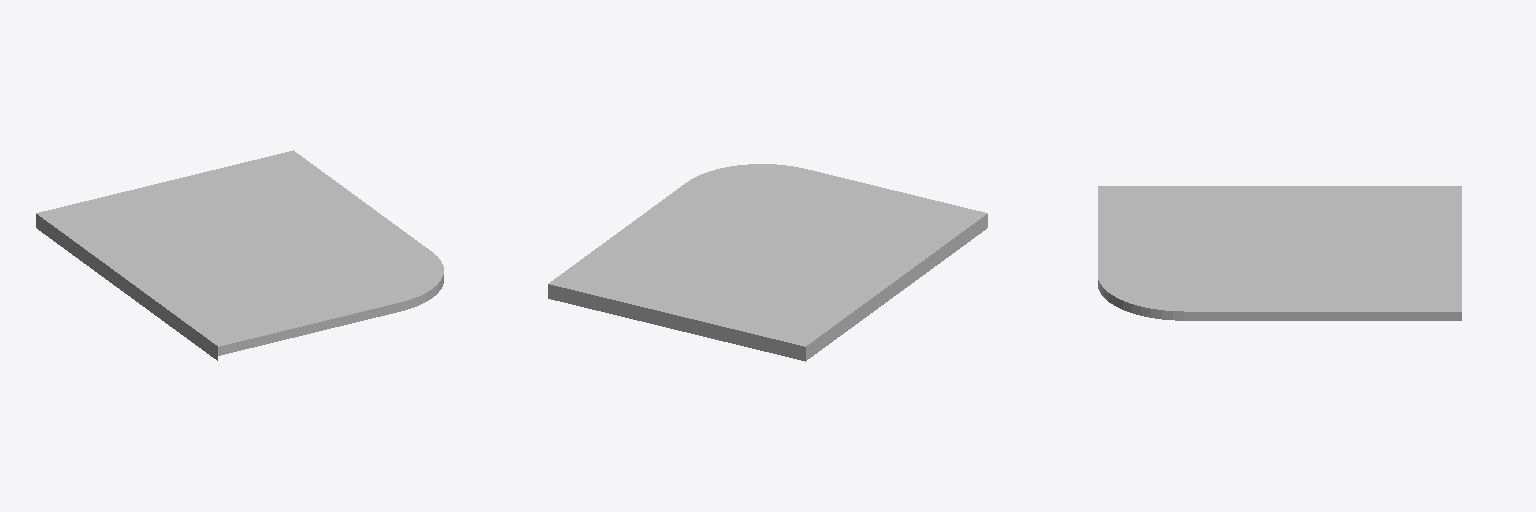
File: original-180.obj
3 views of the same model, side by side, from view 1: azimuth 30°, elevation 25°; view 2: azimuth 150°, elevation 25°; view 3: azimuth 270°, elevation 25° (orthographic).
Visible parts, largest first — view 1: mesh268/mesh268-geometry#mesh268-geometry; view 2: mesh268/mesh268-geometry#mesh268-geometry; view 3: mesh268/mesh268-geometry#mesh268-geometry.
Part boxes in pixels (bbox=[...]): mesh268/mesh268-geometry#mesh268-geometry: bbox=[36, 150, 443, 360]; mesh268/mesh268-geometry#mesh268-geometry: bbox=[548, 164, 987, 361]; mesh268/mesh268-geometry#mesh268-geometry: bbox=[1098, 186, 1461, 320].
Size of the model in its own units: 0.0808 by 0.0044 by 0.099.